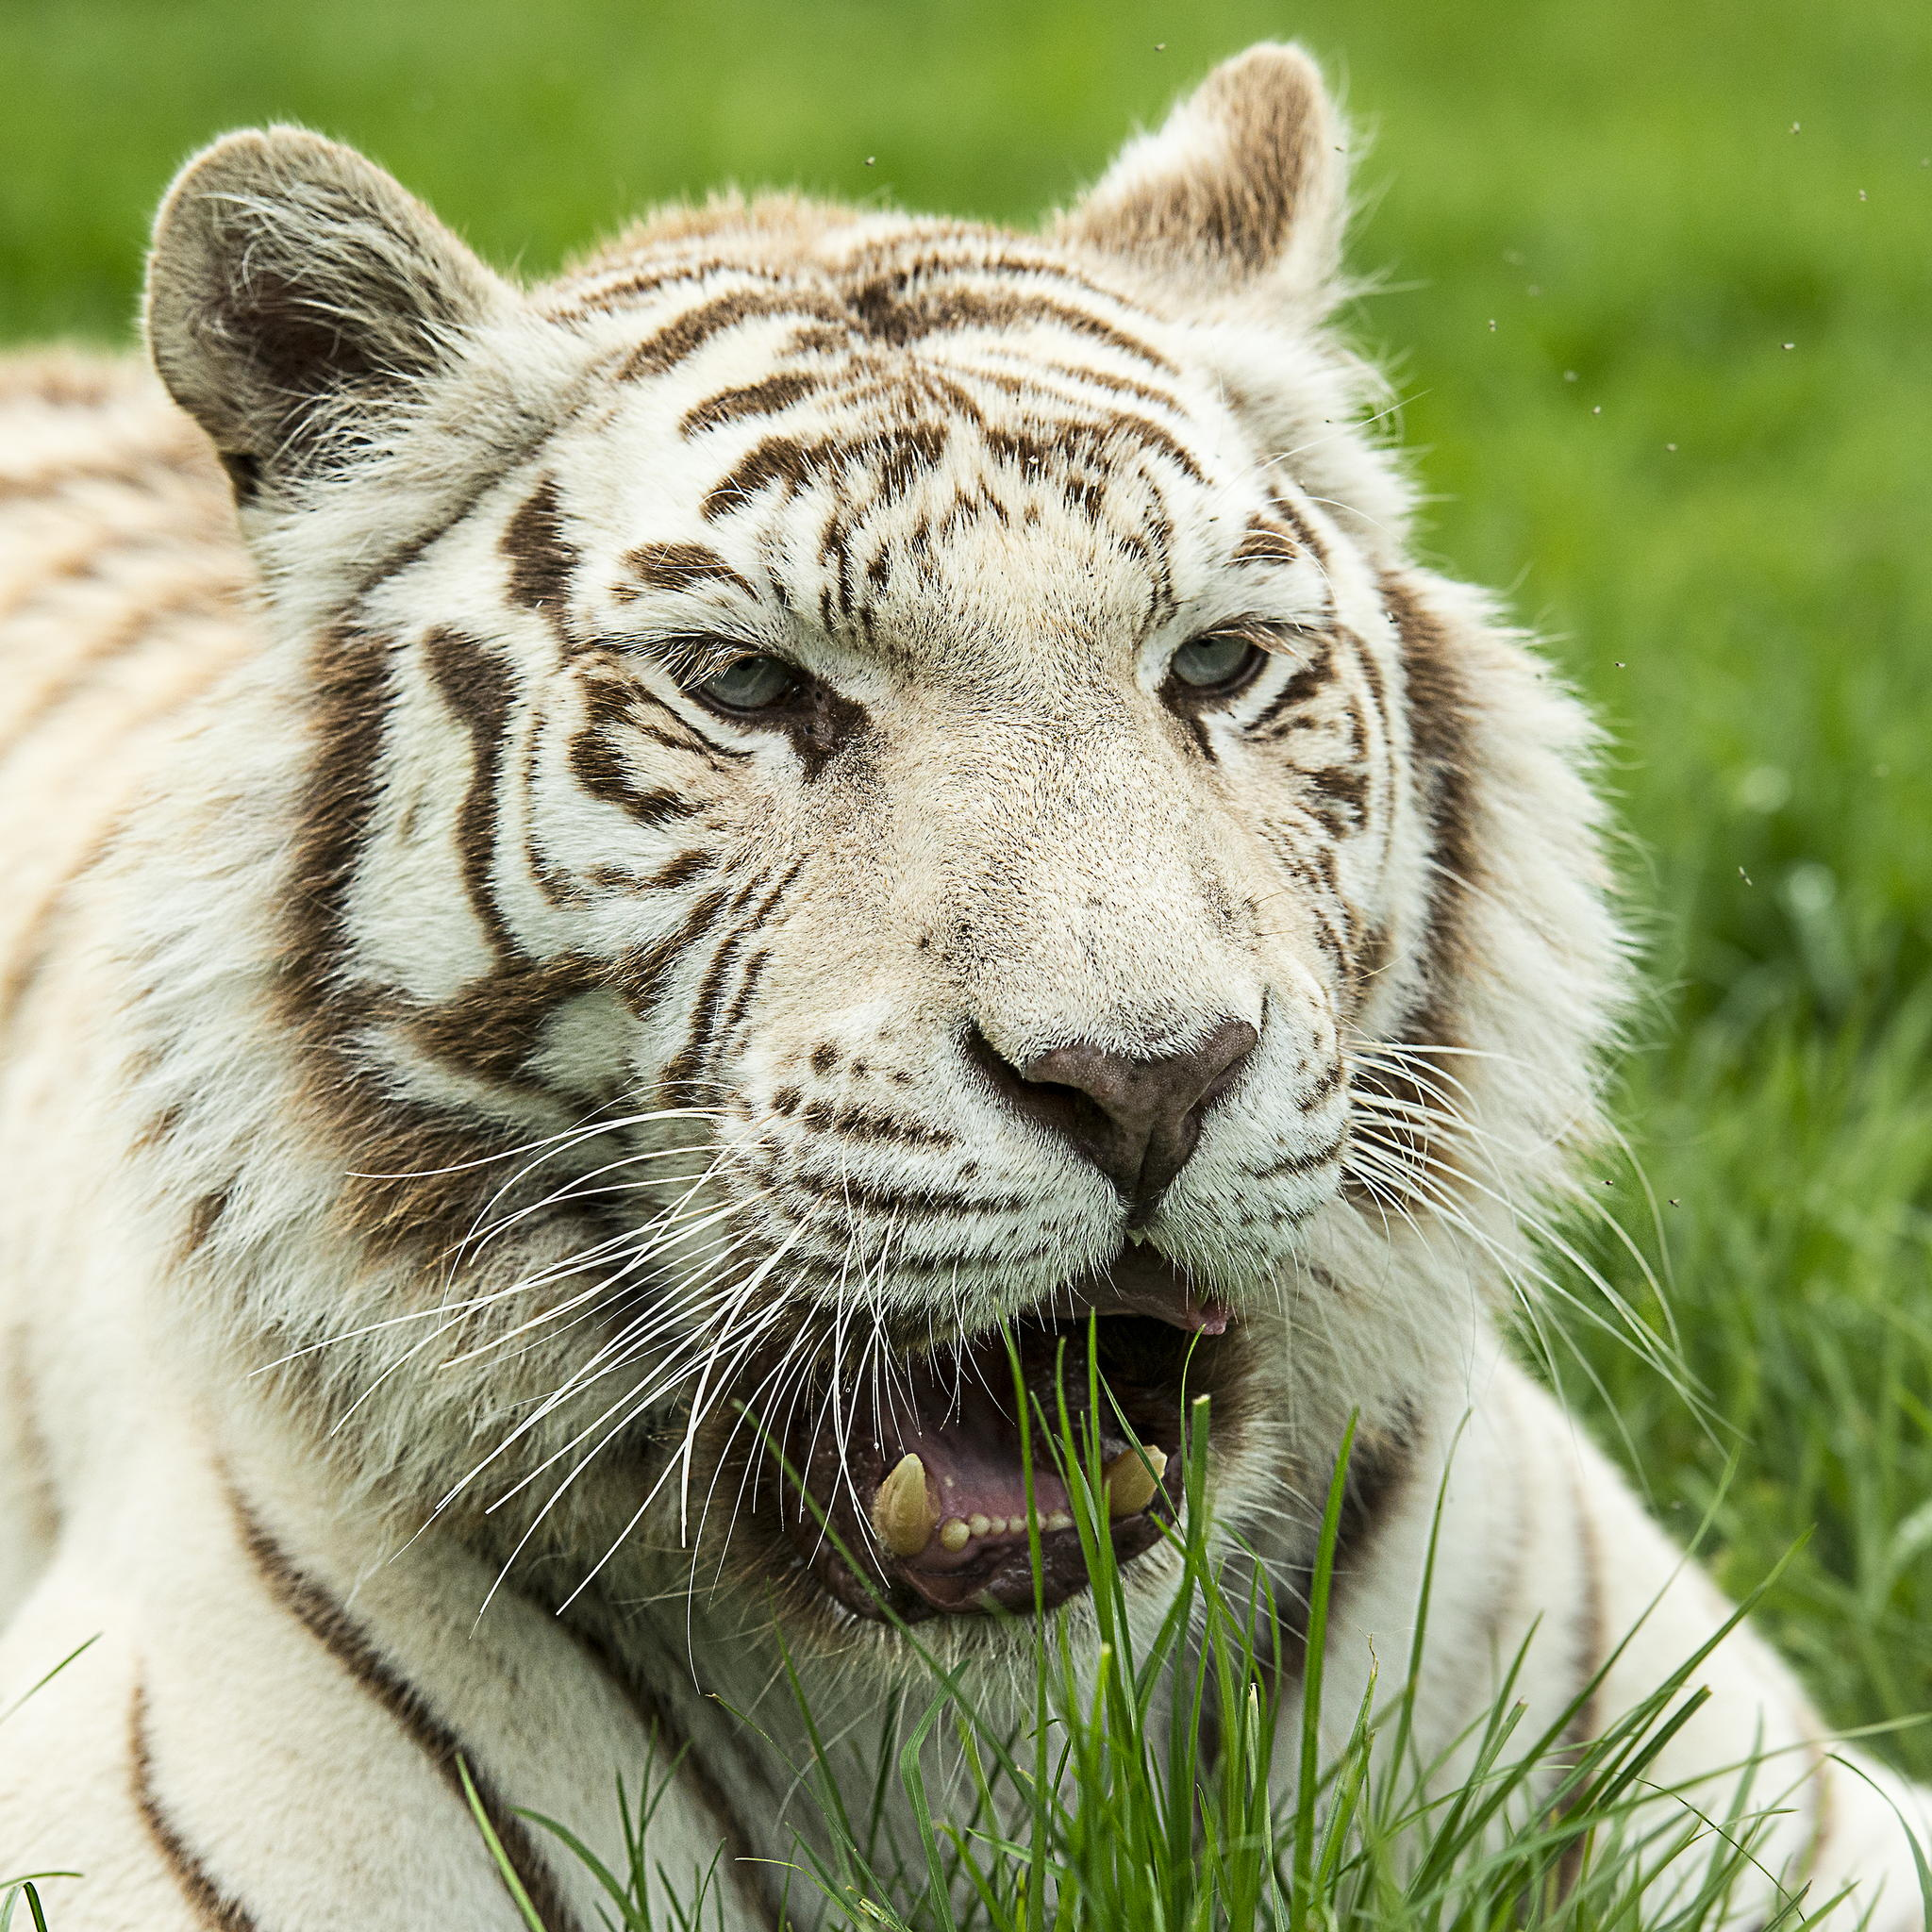tiger: (80, 104, 1580, 1872)
